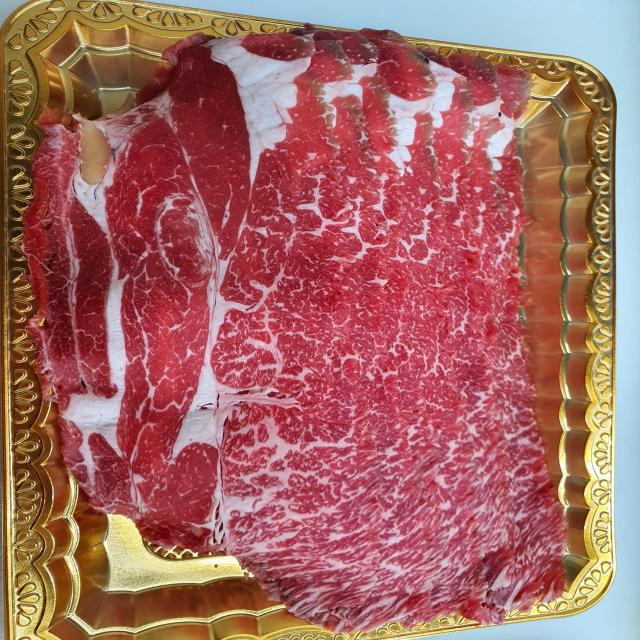pork: (17, 30, 628, 636)
